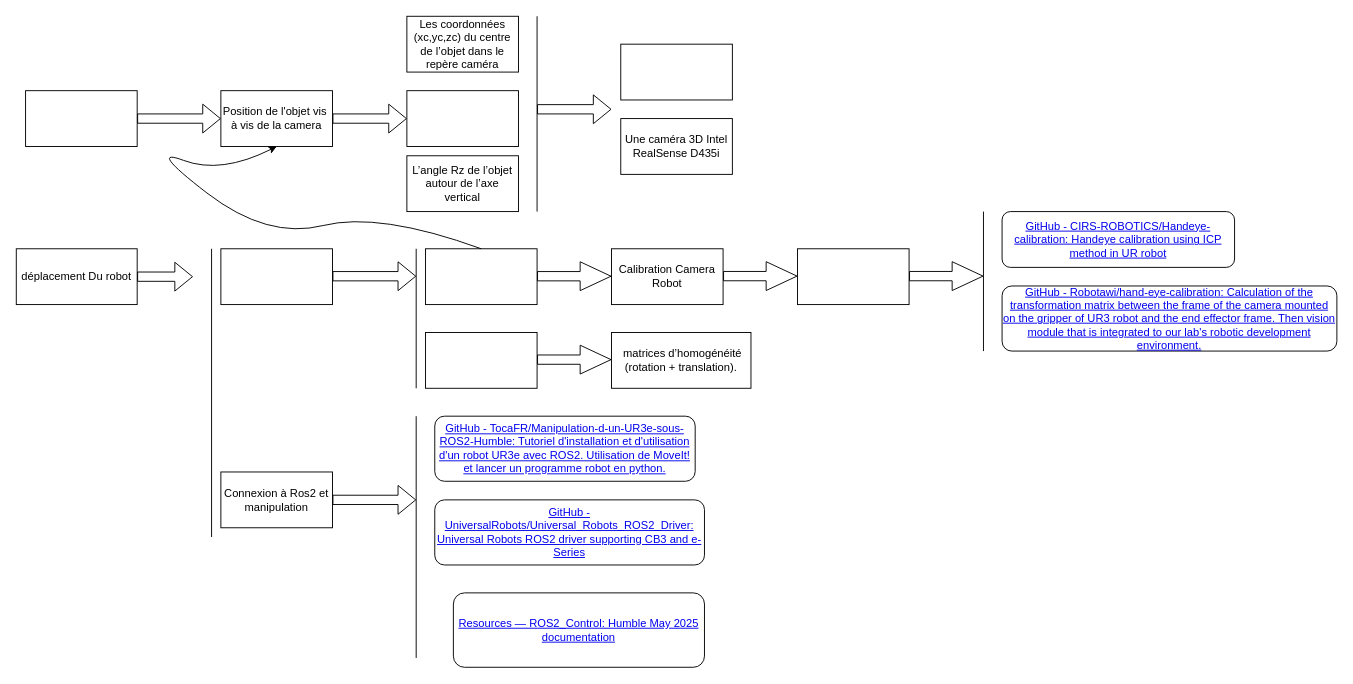
This 1353x684 diagram has some shape labels left out. The centre of each missing label's shape, as x and y in pixels:
Coordonnées de prise: the point at 276,276
Détection des objets: the point at 81,118
Eye to hand ou Eye in hand: the point at 853,276
Le type d’objet : plastique, bois, béton: the point at 462,118
Position de l'objet vis à vis du robot: the point at 481,276
Prise en compte déplacement de l'objet: the point at 481,360
système de vision existant: the point at 676,71
